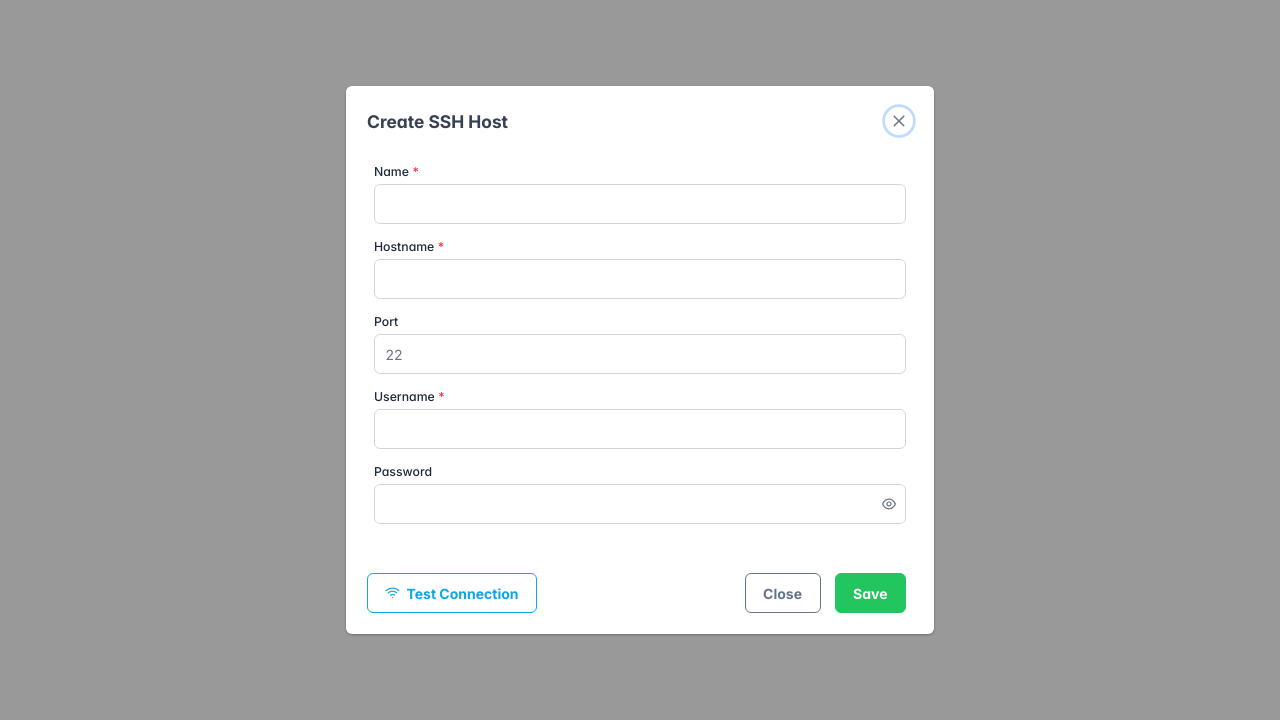
Test: SshHostModal — auto-test SSH connection on save › creating a new SSH host › does not save when fingerprint is rejected
The image size is (1280, 720).
Type "Test Host" into the field labelled "Name*".
click(640, 204); type("Test Host")  # box [374,184,906,224]
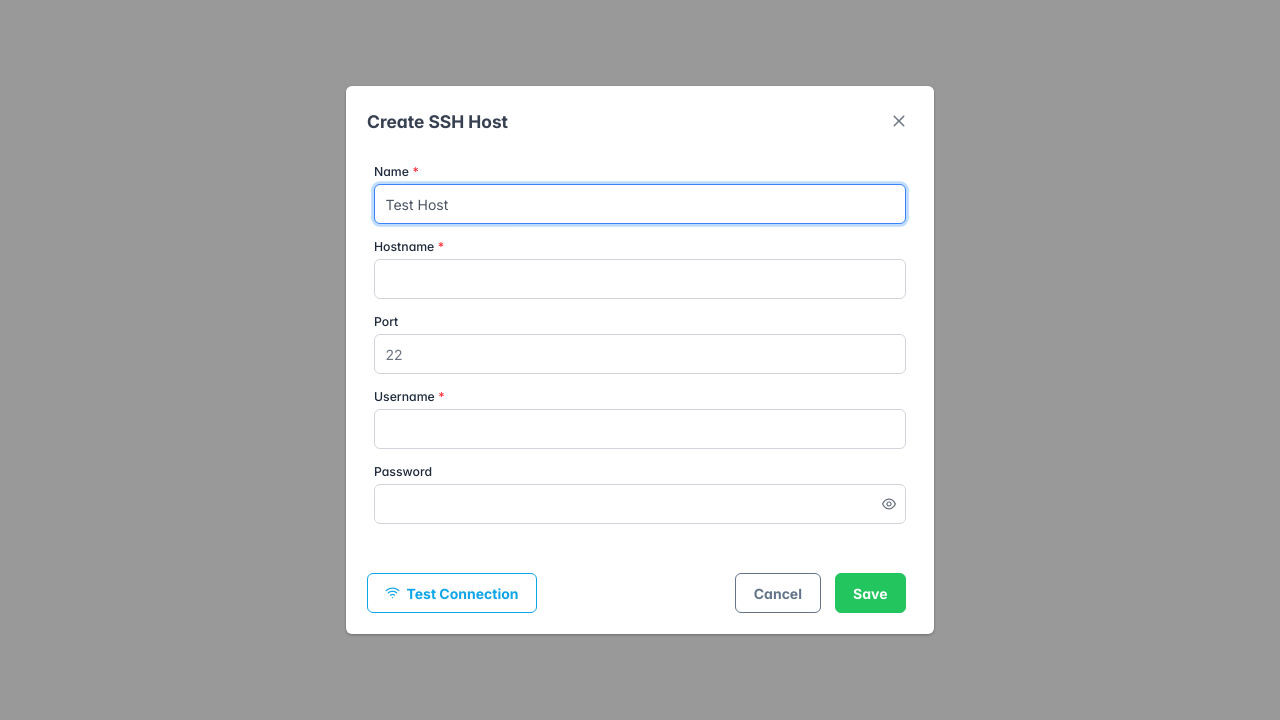
Type "example.com" into the field labelled "Hostname*".
click(640, 279); type("example.com")  # box [374,259,906,299]
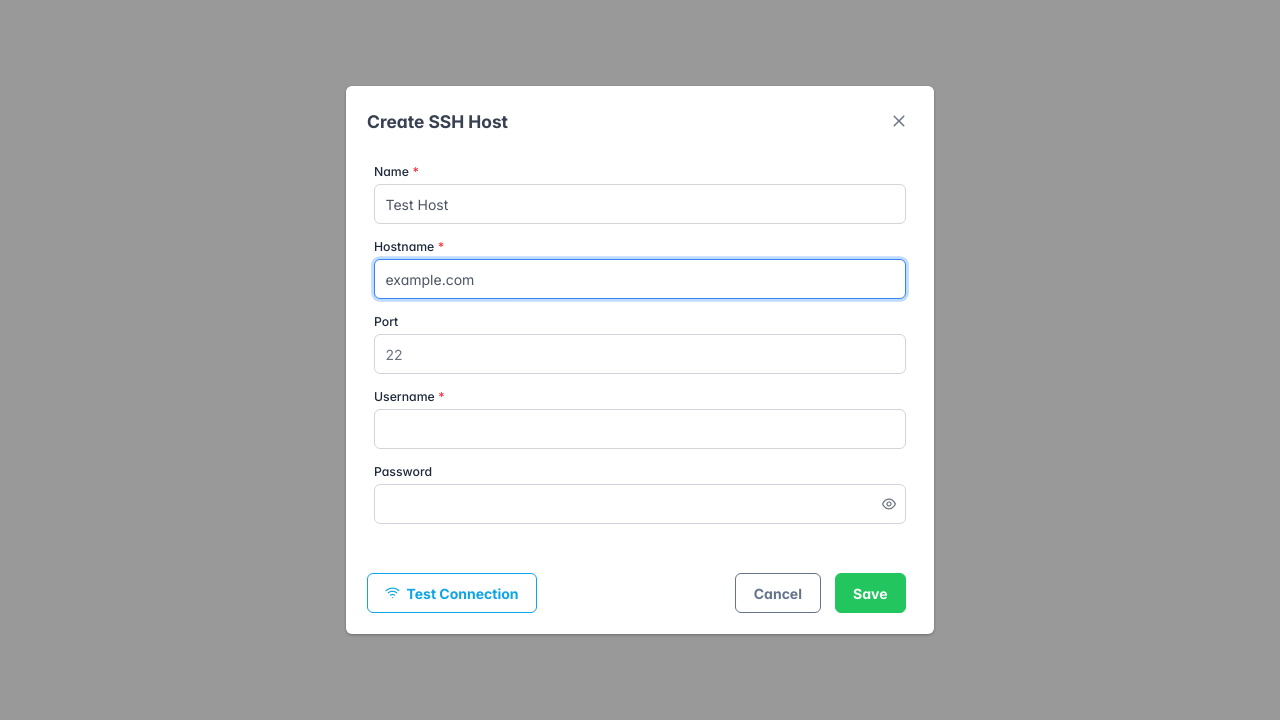
Type "testuser" into the field labelled "Username*".
click(640, 429); type("testuser")  # box [374,409,906,449]
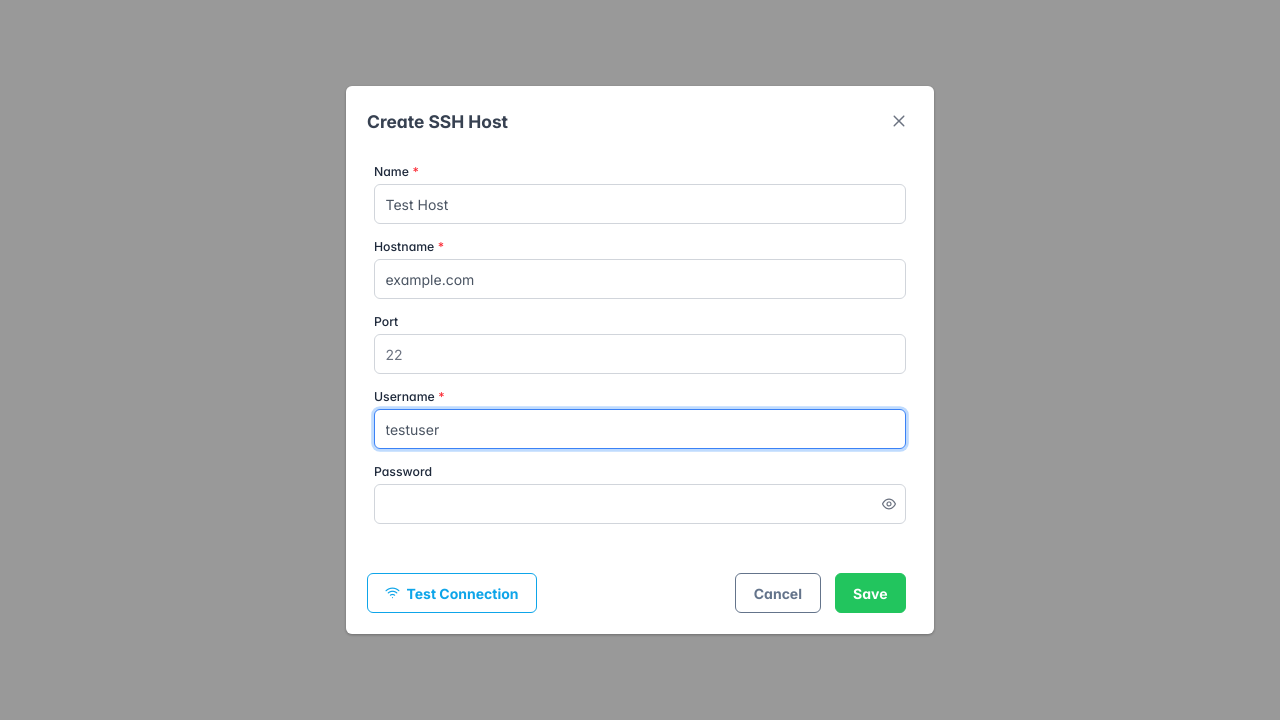
Click the button "Save".
click(870, 593)  # box [834,573,906,613]
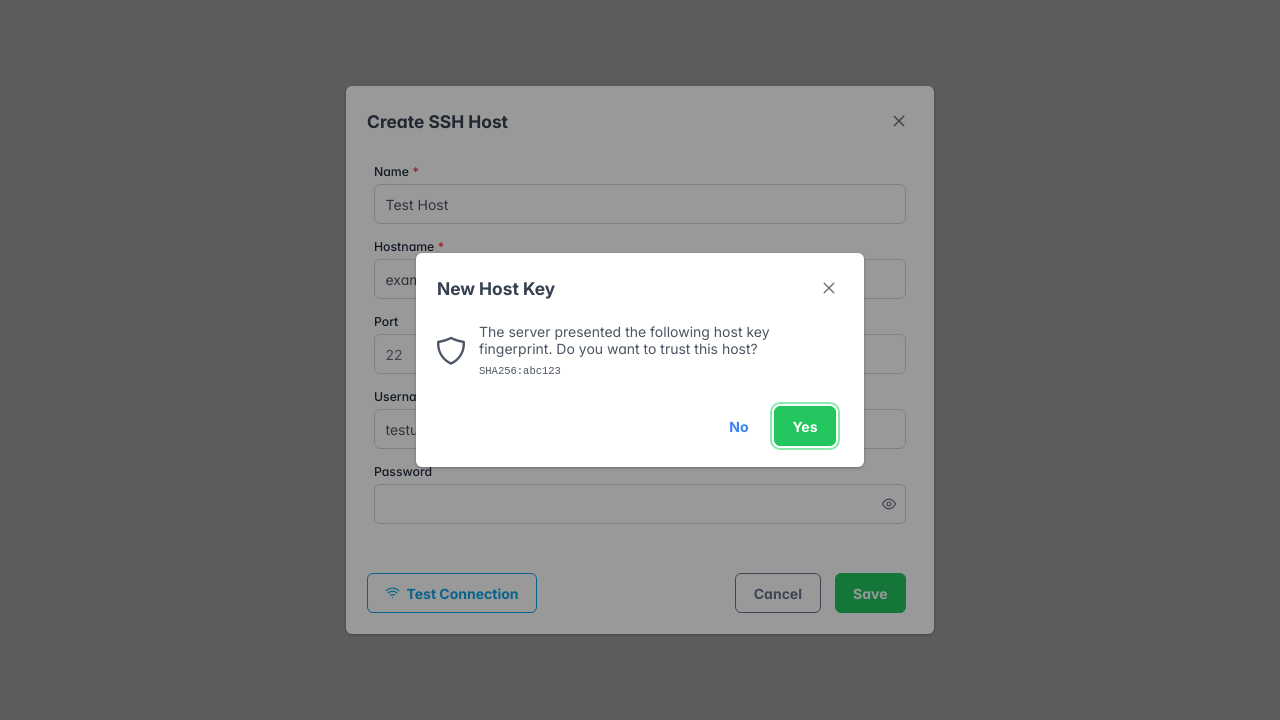
Expected: the button "No" is shown
Click the button "No".
click(739, 426)  # box [711,406,767,446]
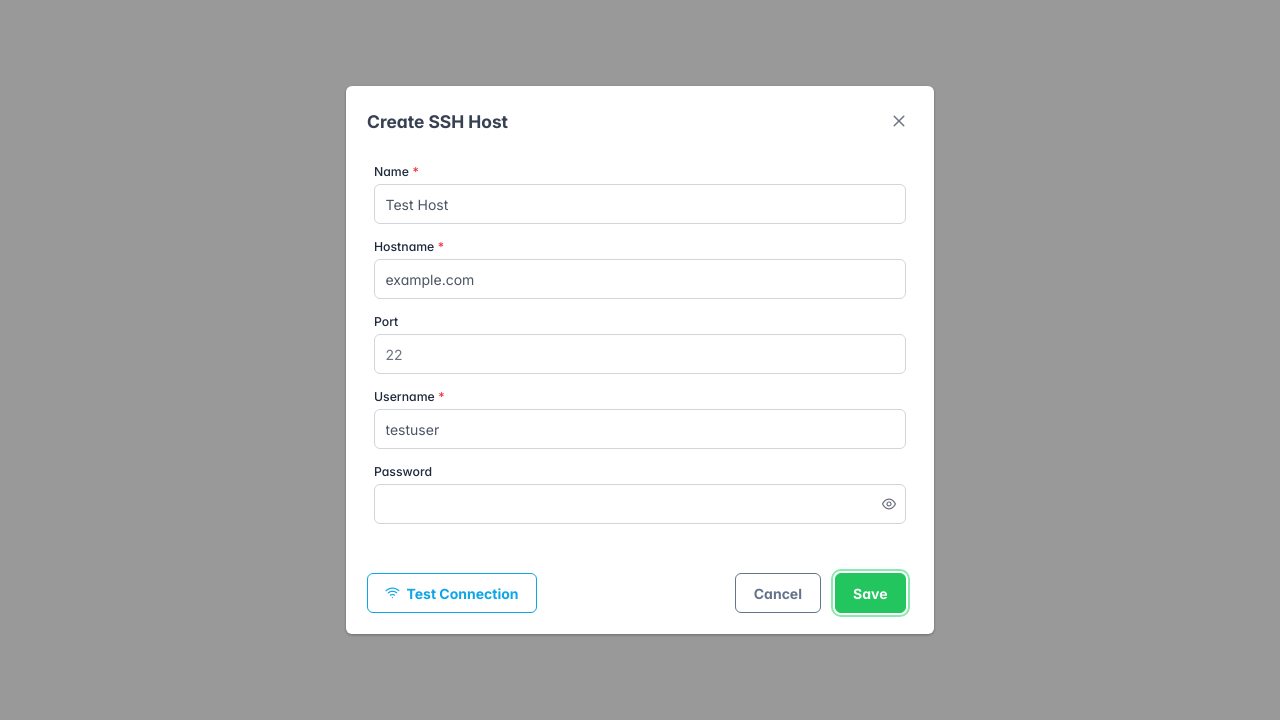
Expected: the button "Save" is shown, [834,573,906,613]
Expected: the button "No" is gone
